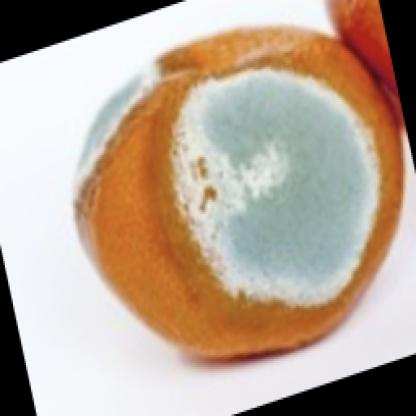rotten: (79, 25, 404, 362)
